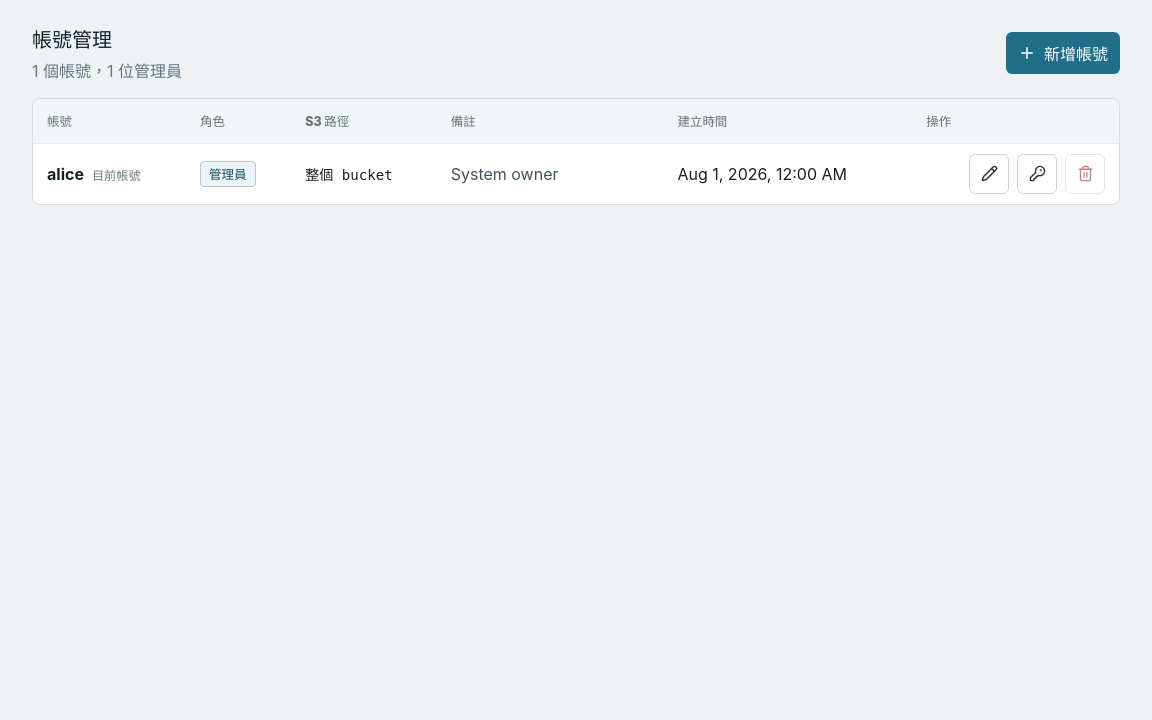
Test: management views › prefills and updates an account note
The width and height of the screenshot is (1152, 720).
Click the button named "編輯 alice" at [989, 174], box [969, 154, 1009, 194]
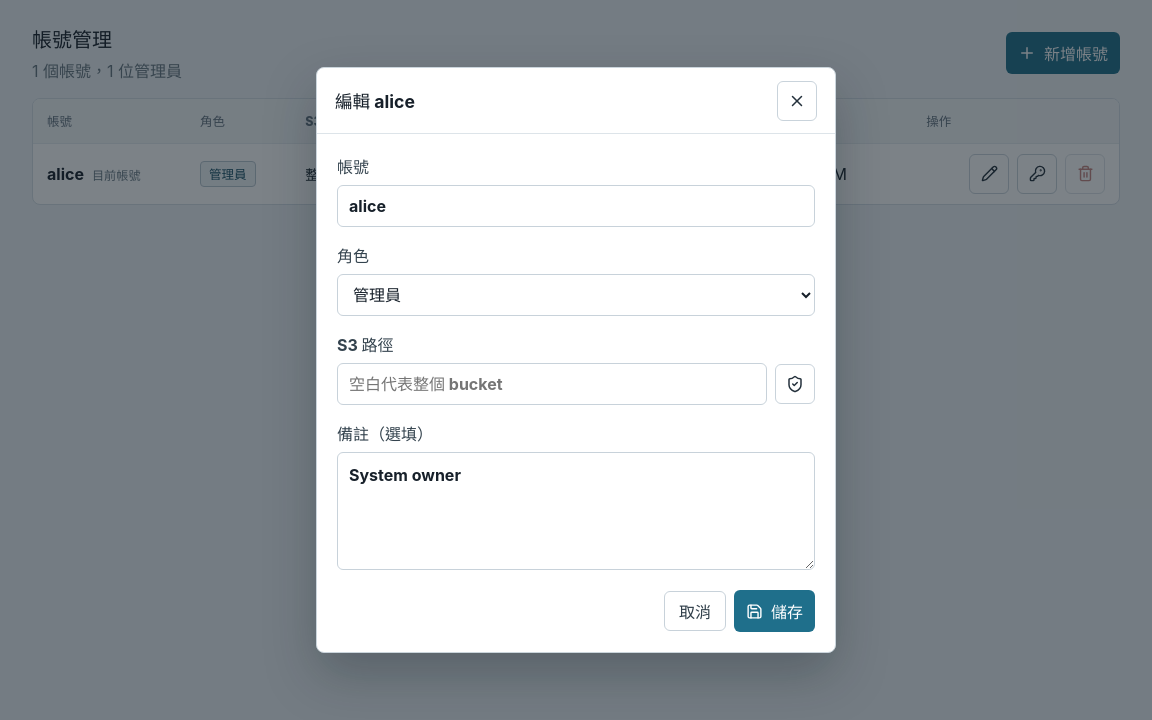
Check: the text box labelled "備註（選填）" holds "System owner"
Replace the text in the text box labelled "備註（選填）" with "Infrastructure owner" at [576, 511], box [337, 452, 815, 570]
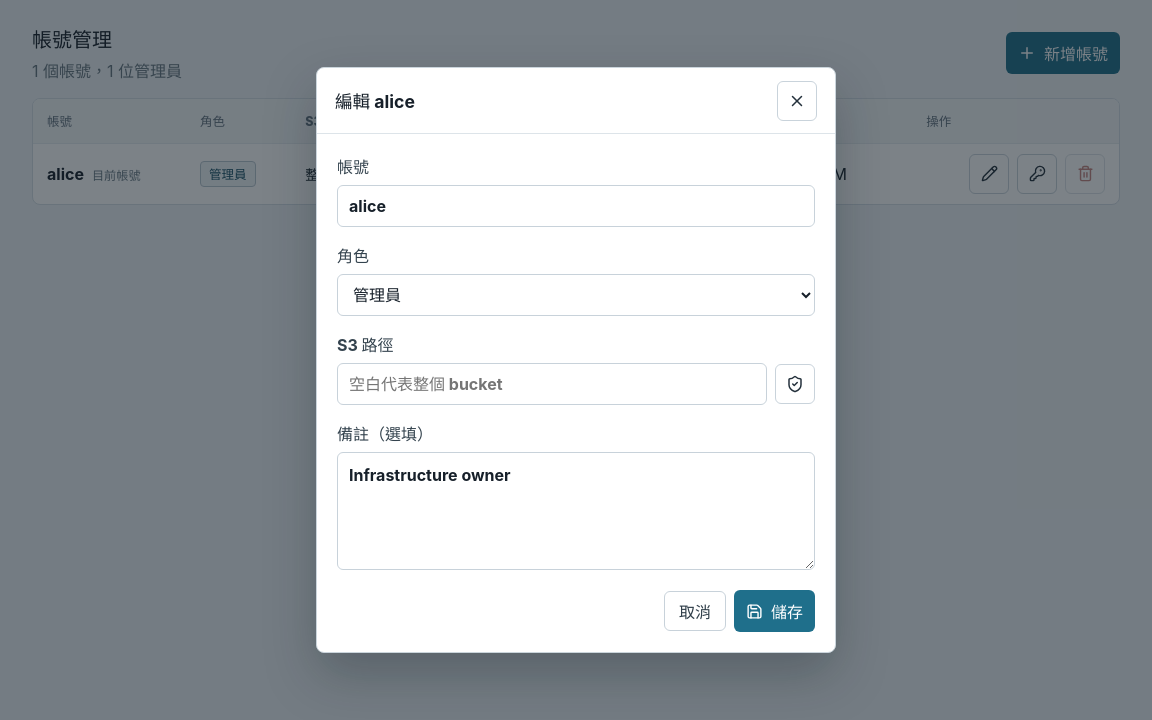
Click the button "儲存" at [774, 611], box [734, 590, 815, 632]
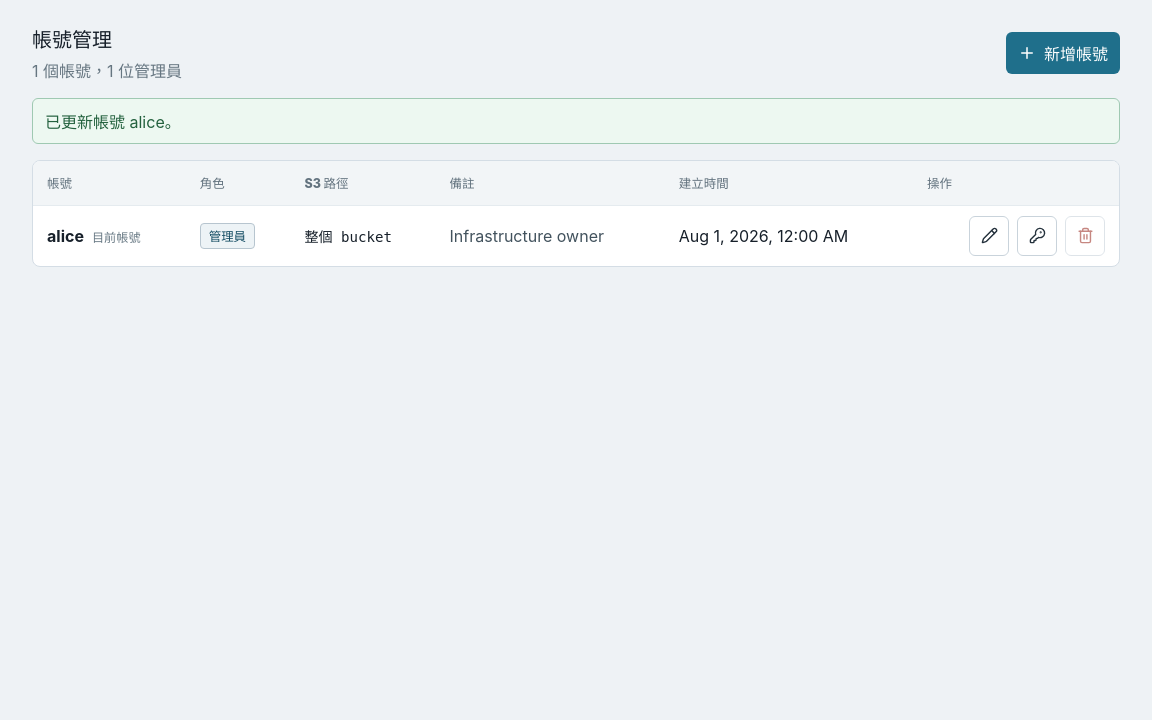
Check: the text "Infrastructure owner" is shown, box [436, 205, 665, 266]
